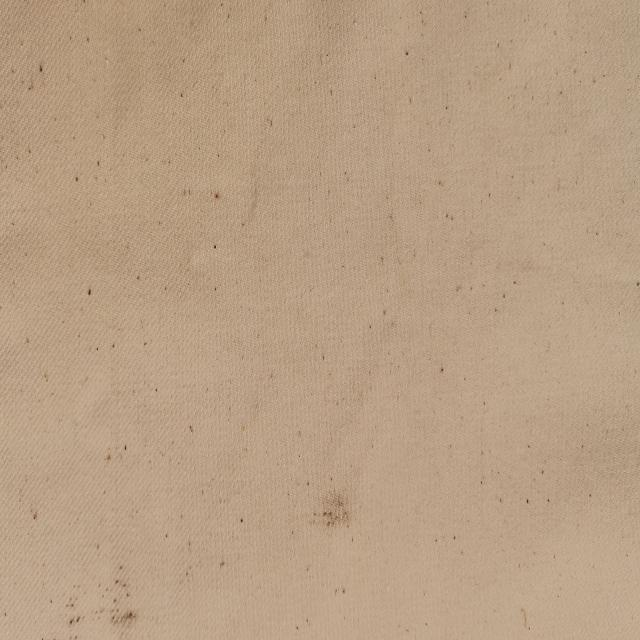taaaches: (306, 468, 356, 544), (109, 557, 145, 639), (58, 590, 86, 640)
